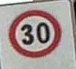limite 30: (7, 8, 62, 57)
